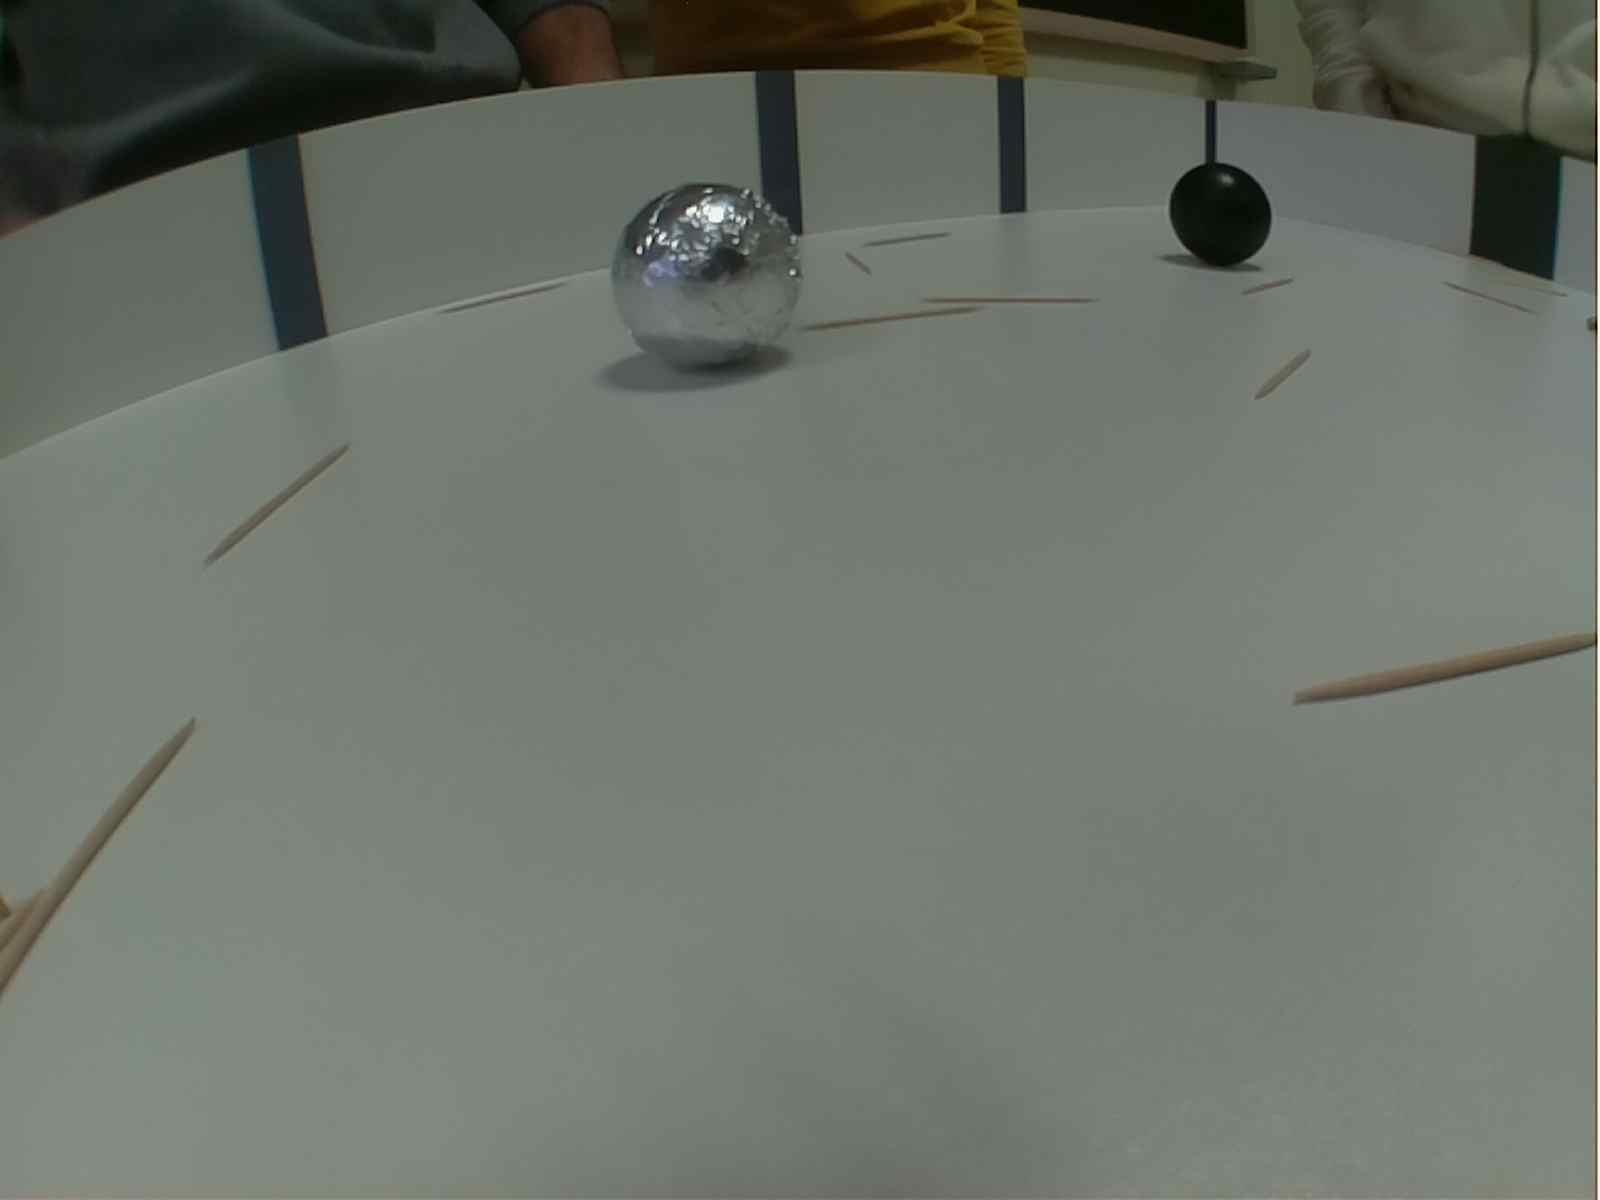bianca: (606, 174, 808, 377)
nera: (1162, 156, 1283, 271)
